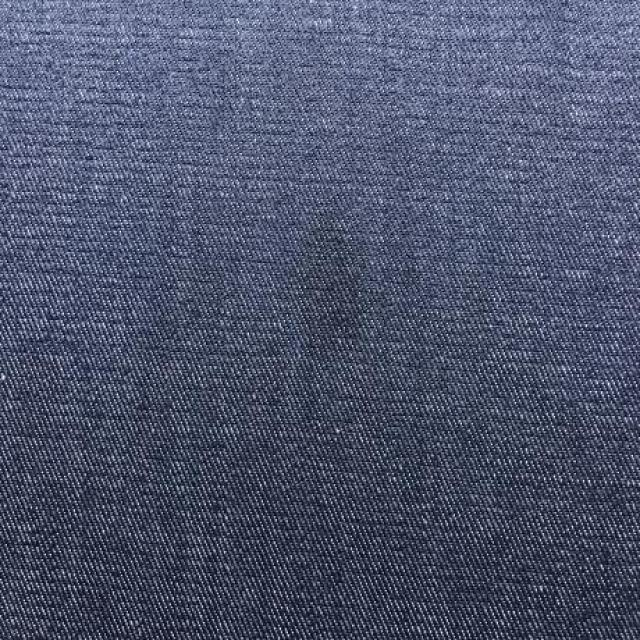Hole: (270, 210, 372, 640)
